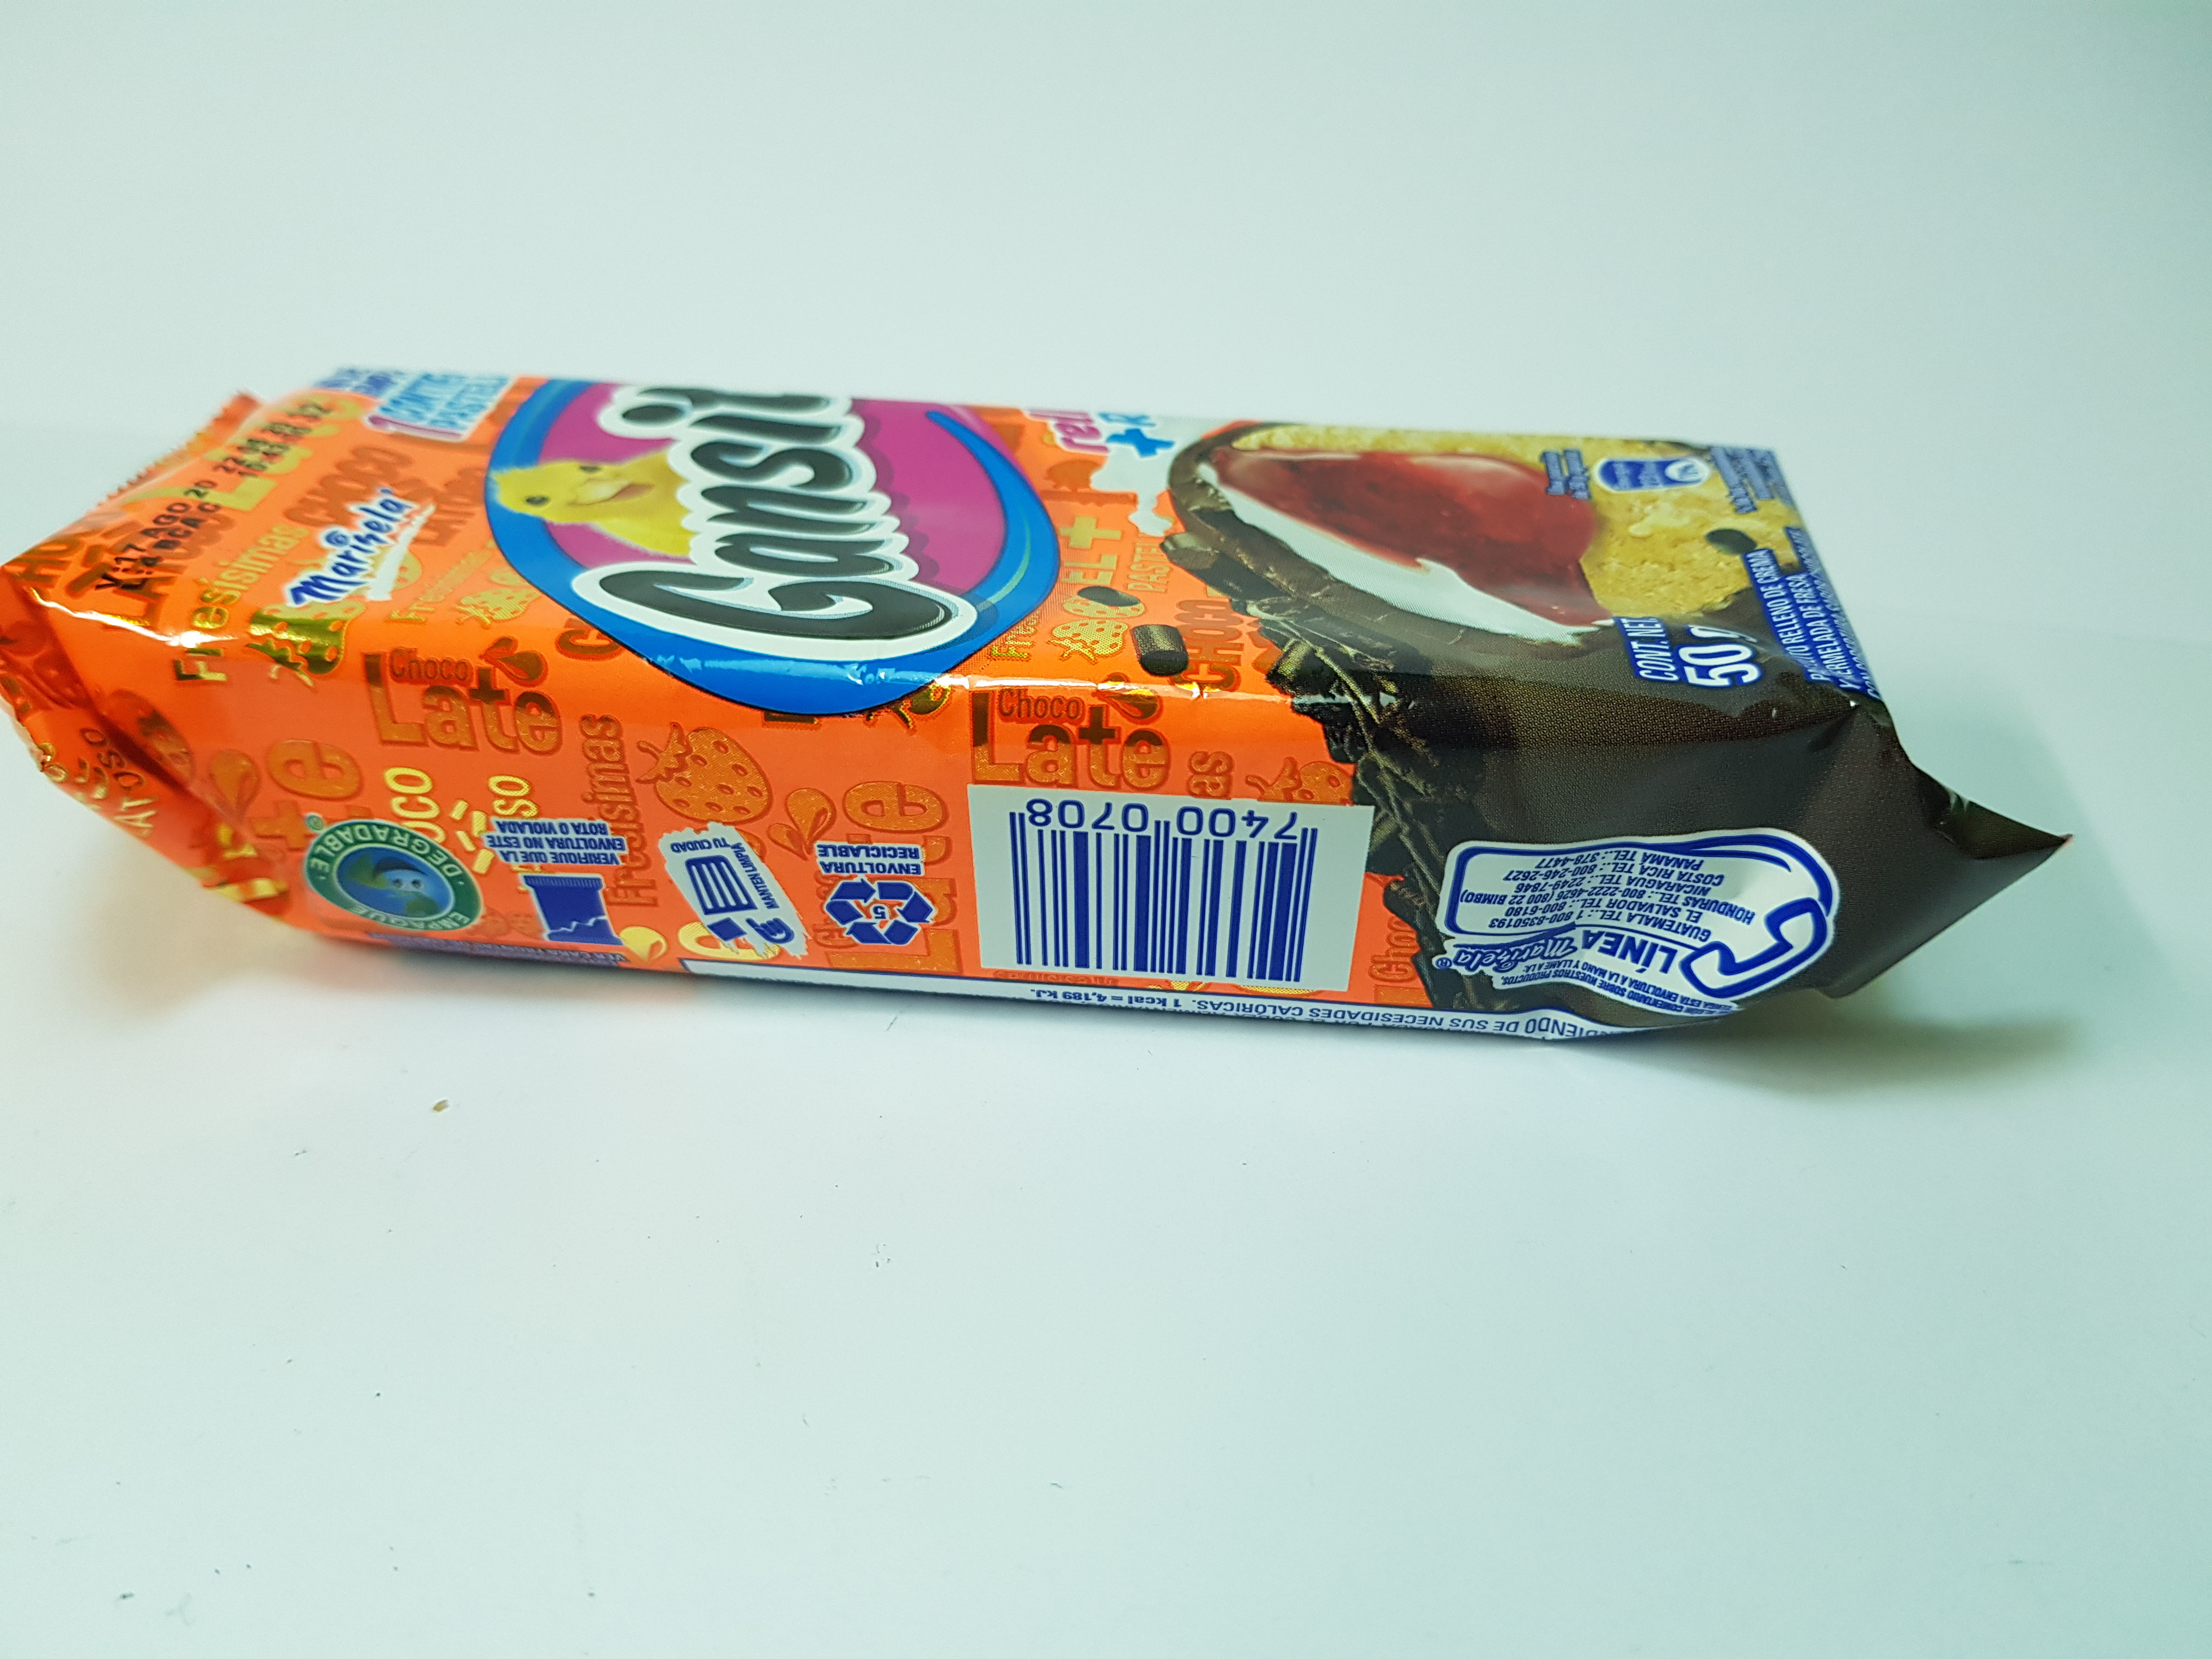gansito: (5, 335, 2071, 1080)
